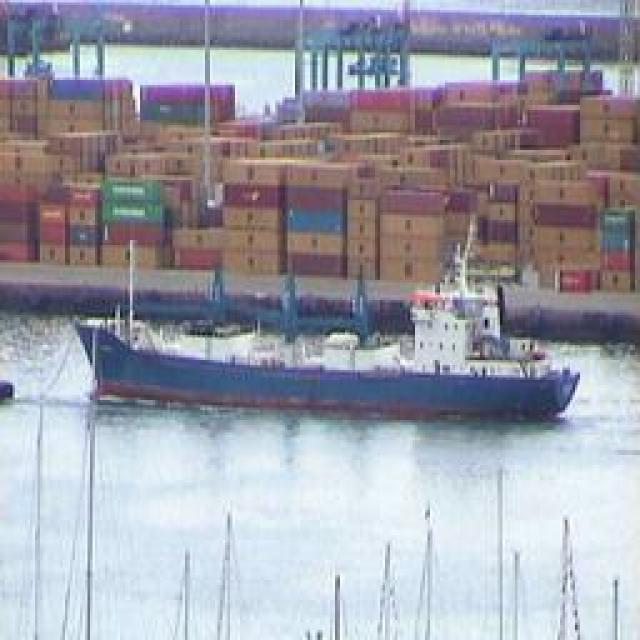ship2: (67, 204, 581, 417)
